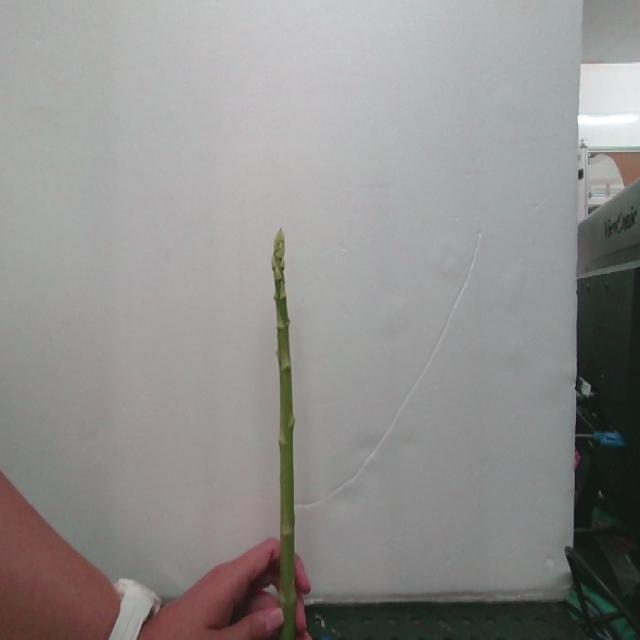aspargus: (270, 233, 310, 640)
